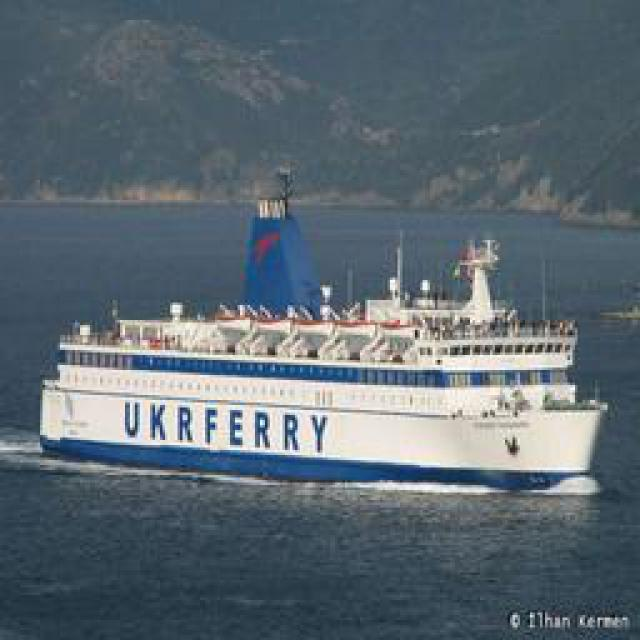Ship: (37, 224, 600, 497)
